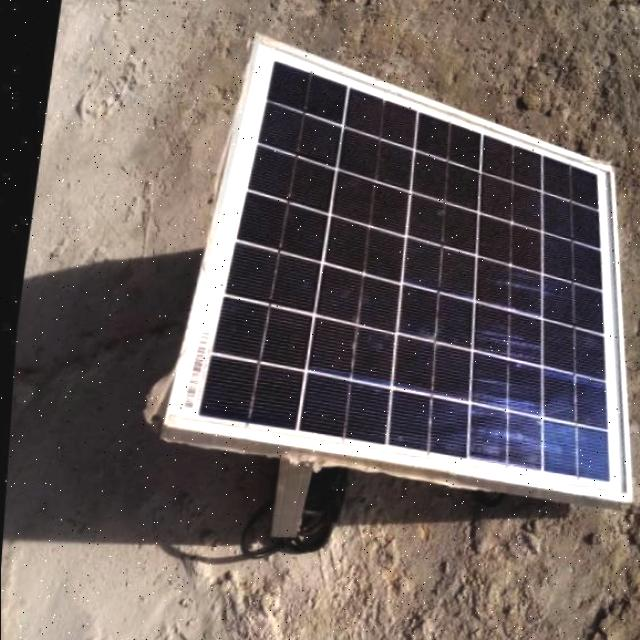Normal Solar Panel: (150, 26, 640, 482)
